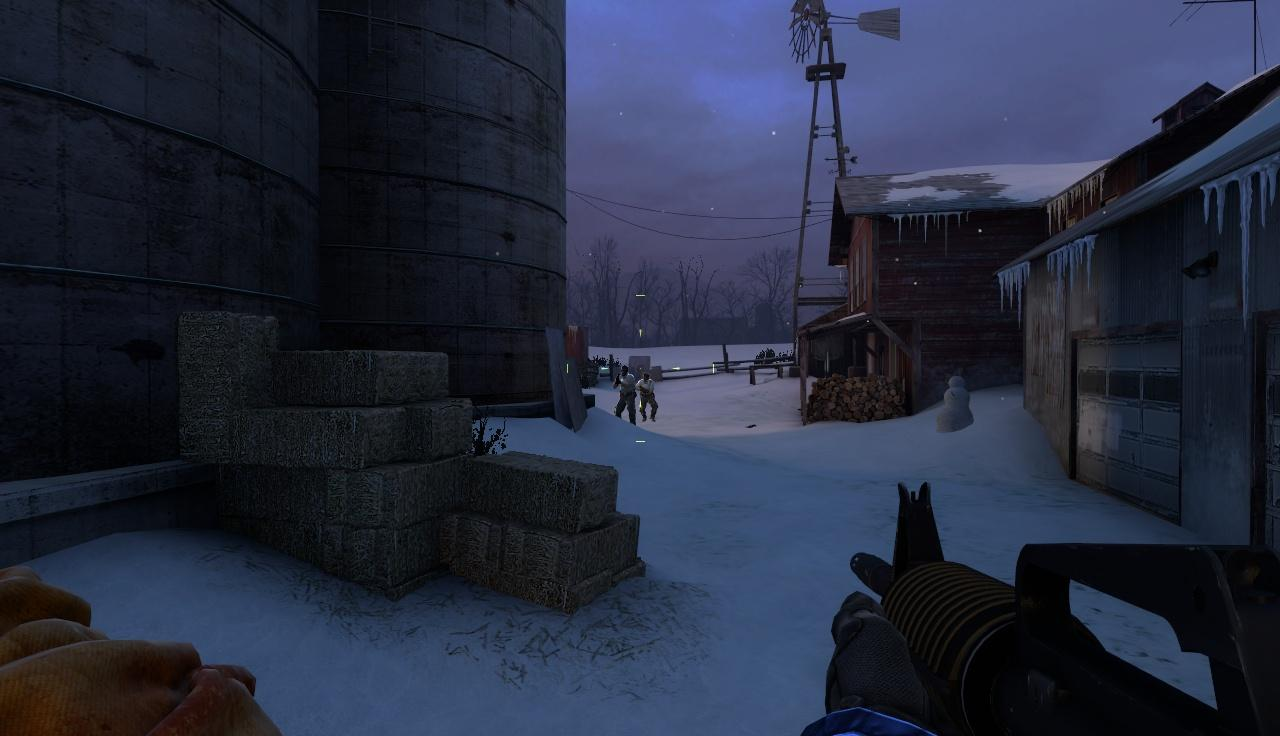rifle: (831, 475, 1280, 736)
tt: (616, 366, 635, 424), (638, 373, 657, 418)
tthead: (621, 366, 628, 375), (643, 373, 650, 382)
